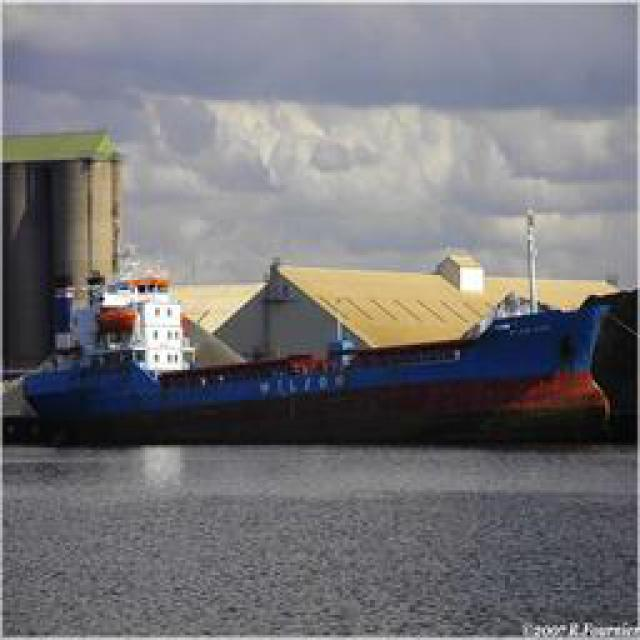Ship: (11, 271, 629, 451)
